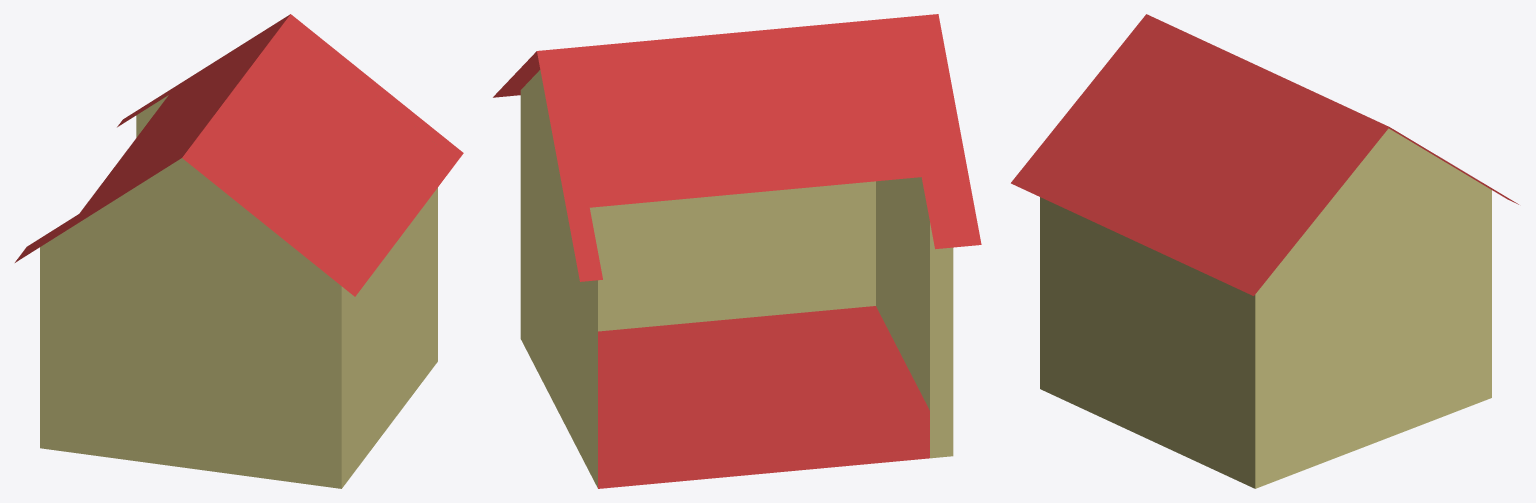
3 views of the same model, side by side, from view 1: azimuth 30°, elevation 25°; view 2: azimuth 150°, elevation 25°; view 3: azimuth 270°, elevation 25° (orthographic). The views are drawn at different scales.
Size of the model in its own units: 18.38 by 18.39 by 12.79.
